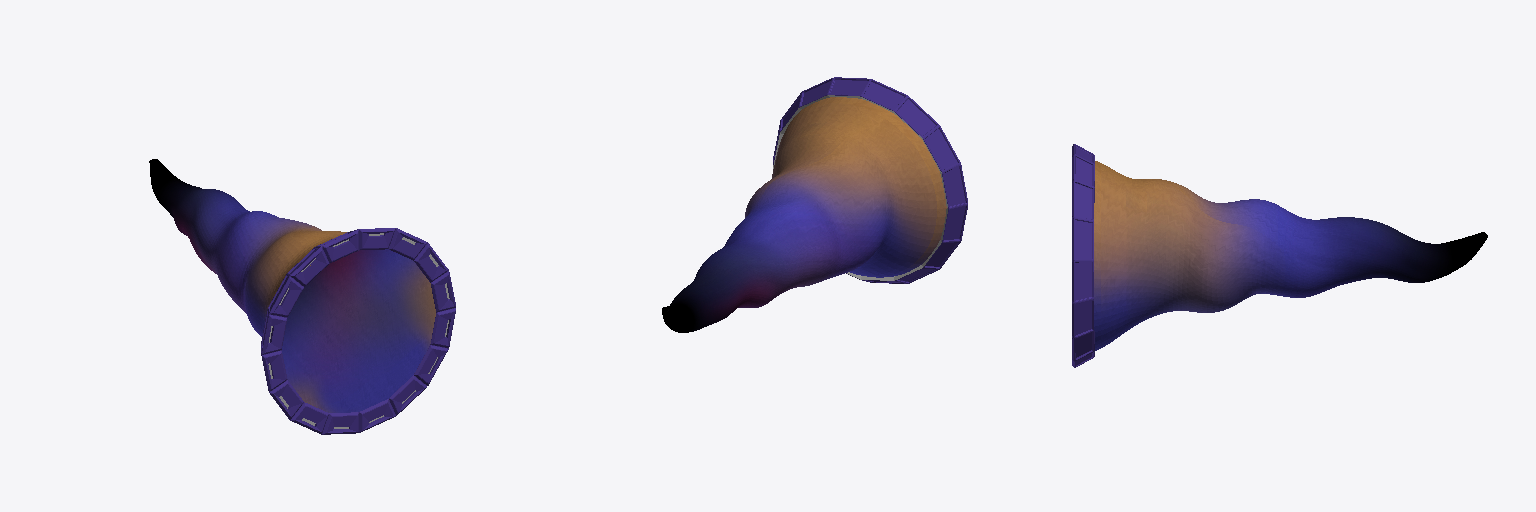
3 renders of one model, left to right at view 1: azimuth 30°, elevation 25°; view 2: azimuth 150°, elevation 25°; view 3: azimuth 270°, elevation 25°, orthographic.
Parts seen in each view (by area): view 1: object_1, object_0, object_2; view 2: object_0, object_2, object_4; view 3: object_0, object_2.
Part boxes in pixels (x1,y1,x2,y2): object_1: (282,249,435,412); object_0: (149,159,346,336); object_2: (261,228,455,434); object_0: (662,97,946,332); object_2: (773,77,967,283); object_4: (773,95,947,280); object_0: (1094,161,1487,350); object_2: (1072,144,1094,367).
Bounding box in the file's own units: 12.94 × 12.93 × 23.98.
Materials: 5 (1 with a texture image).